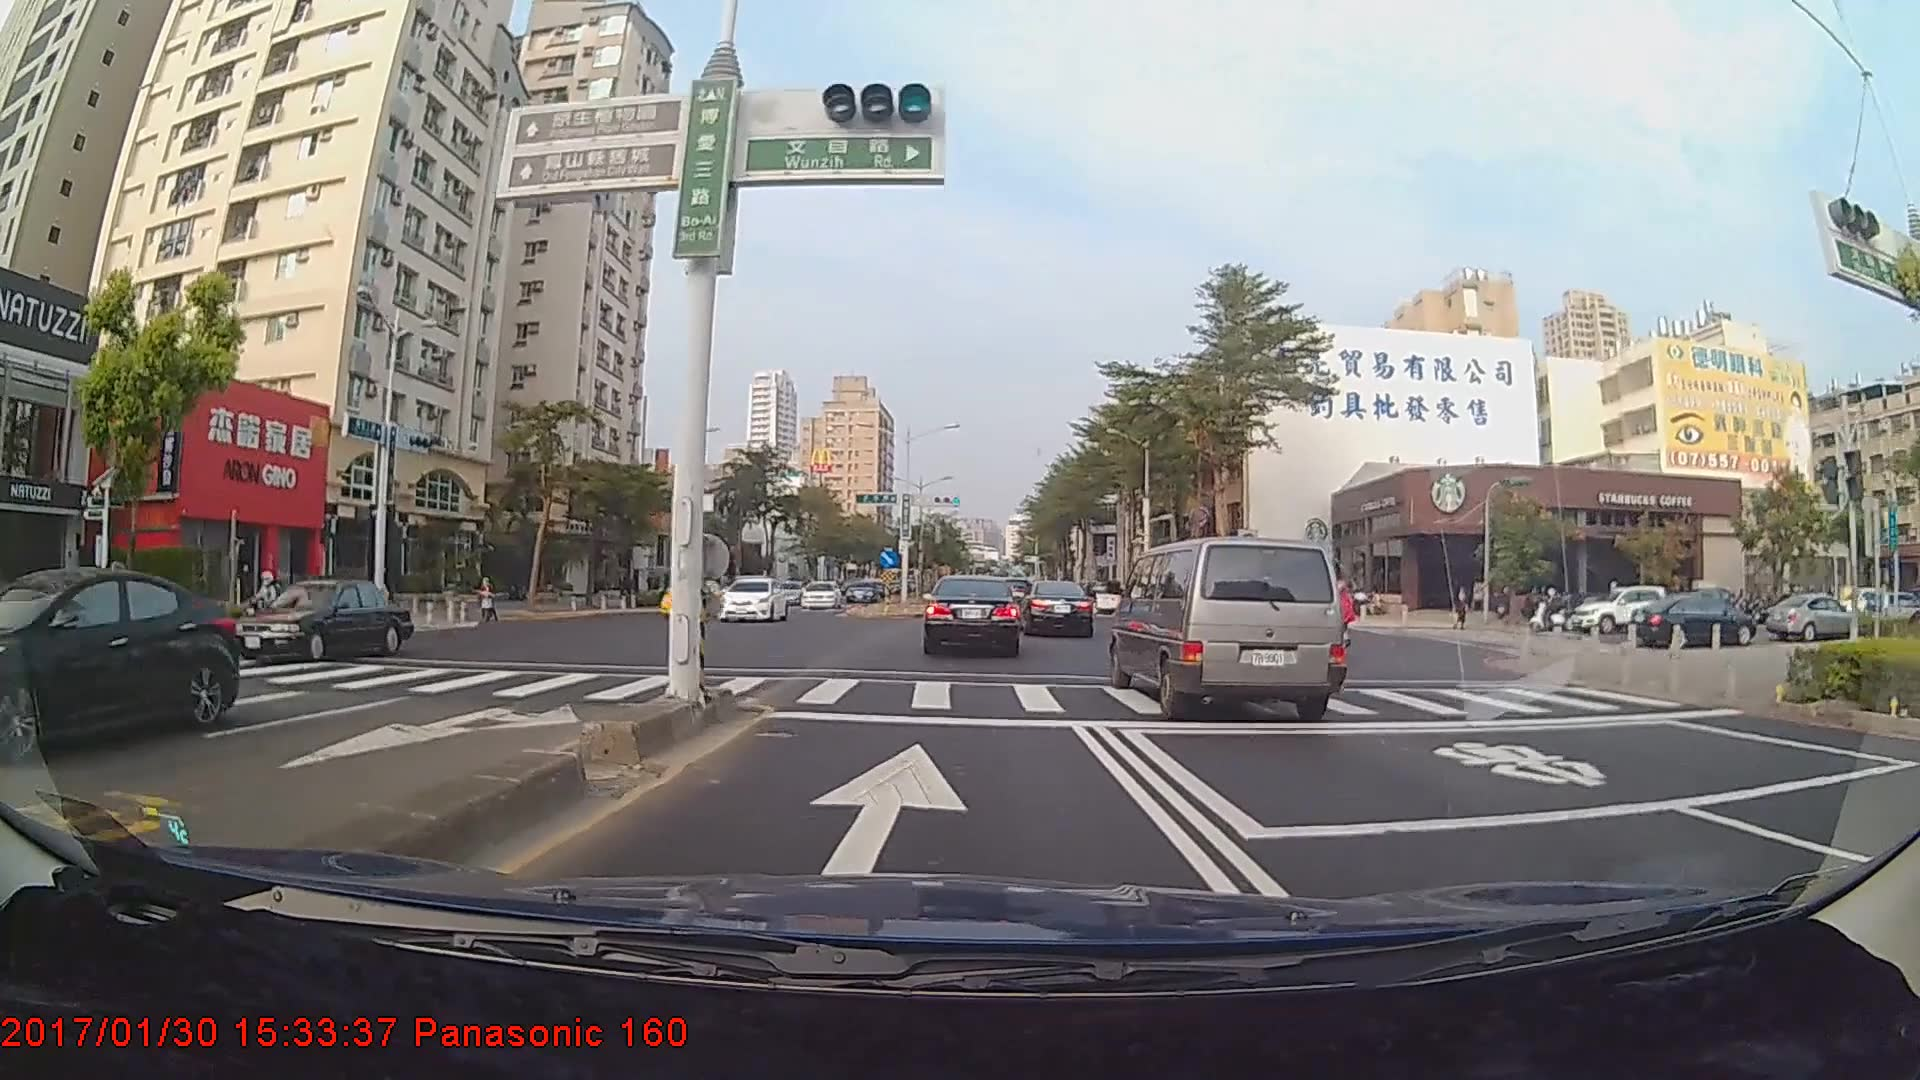rider: (81, 564, 140, 649), (1533, 584, 1578, 636)
vehicle: (0, 564, 243, 766), (1109, 532, 1347, 720), (230, 578, 408, 664), (1642, 582, 1770, 647), (921, 574, 1023, 656), (1760, 594, 1863, 643), (1574, 584, 1672, 634), (1019, 578, 1095, 639), (719, 575, 786, 623), (797, 580, 841, 610)
